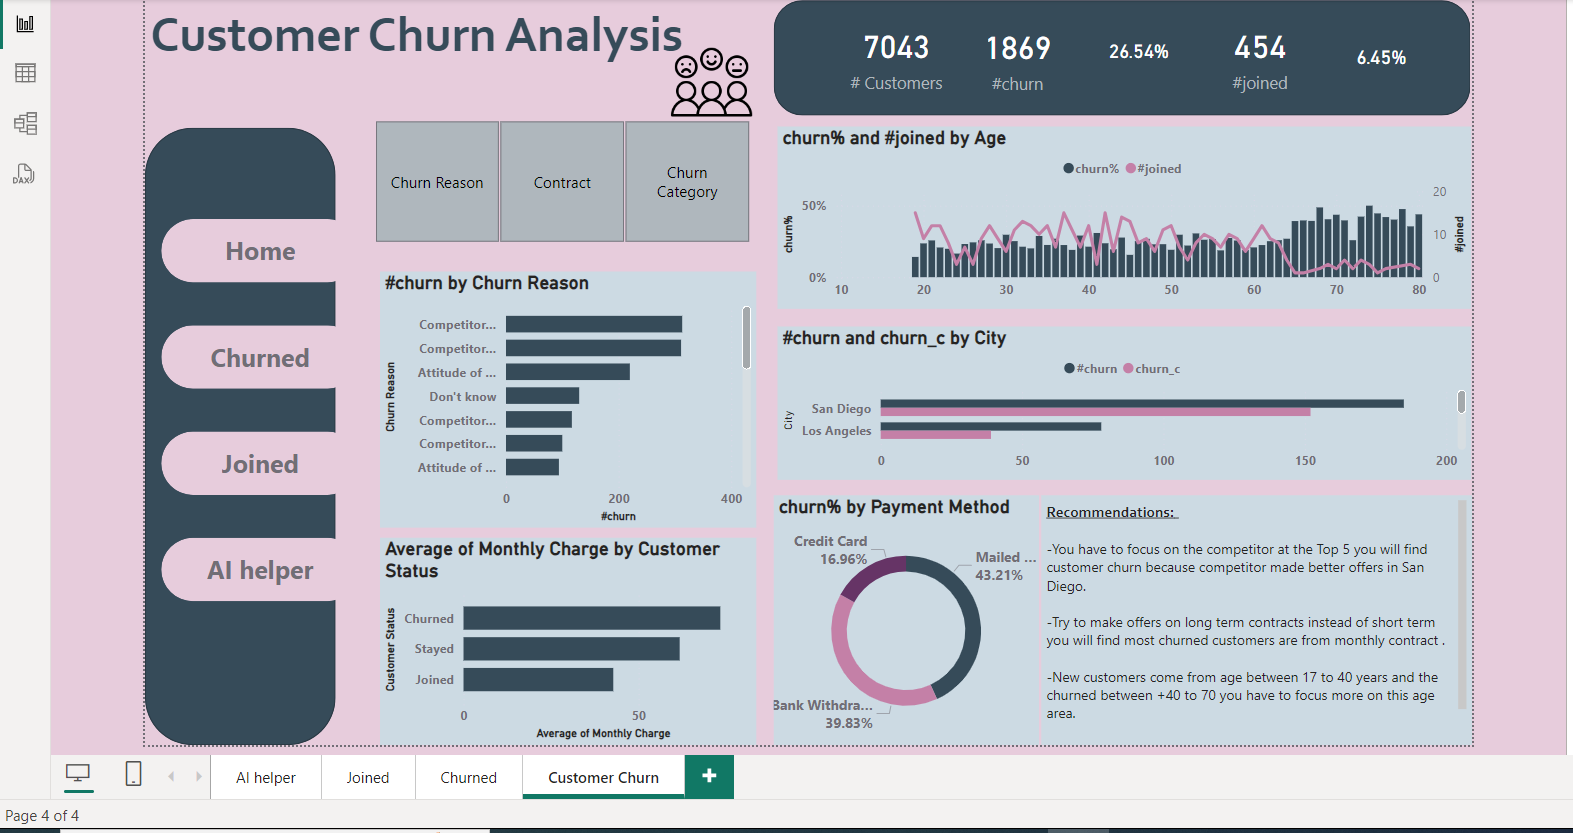

The page's visual inventory and layout, read from the dashboard file:
{"tool":"powerbi","page":{"name":"Customer Churn","canvas":[1280,720],"ordinal":0},"visuals":[{"type":"card","fields":{"Values":[" measures.# Customer"]},"box":[661.4,0,128.3,111.2],"z":0,"group":"g1"},{"type":"textbox","box":[864.5,478.9,415.8,241.5],"z":0},{"type":"card","fields":{"Values":[" measures.#churn"]},"box":[778.3,1.4,128.3,109.8],"z":1000,"group":"g1"},{"type":"clusteredBarChart","fields":{"Category":["telecom_customer_churn.City"],"Y":[" measures.#churn"," measures.churn_c"]},"box":[610.6,315.6,669.6,148.2],"z":1000},{"type":"card","fields":{"Values":[" measures.#joined"]},"box":[1012,0,128.3,111.2],"z":2000,"group":"g1"},{"type":"clusteredBarChart","fields":{"Category":["telecom_customer_churn.Customer Status"],"Y":["Avg(telecom_customer_churn.Monthly Charge)"]},"box":[226.8,520,363.1,200.3],"z":2000},{"type":"card","fields":{"Values":[" measures.churn%"]},"box":[895.2,27.1,128.3,48.5],"z":3000,"group":"g1"},{"type":"lineClusteredColumnComboChart","fields":{"Category":["telecom_customer_churn.Age"],"Y":[" measures.churn%"],"Y2":[" measures.#joined"]},"box":[610.6,123.5,669.6,175.6],"z":3000},{"type":"shape","box":[606.5,1.4,672.4,111.1],"z":4000},{"type":"card","fields":{"Values":[" measures.joined%"]},"box":[1128.9,32.8,128.3,48.5],"z":4000,"group":"g1"},{"type":"donutChart","fields":{"Y":[" measures.churn%"],"Category":["telecom_customer_churn.Payment Method"]},"box":[606.8,479,255.8,241.3],"z":5000},{"type":"textbox","box":[0,0,590.1,124],"z":6000},{"type":"shape","box":[0,124,183.9,595.8],"z":7000},{"type":"group","id":"g1","title":"Group 1","box":[661.4,0,595.8,111.2],"z":8000},{"type":"actionButton","box":[15.7,212.4,191,61.3],"z":9000},{"type":"actionButton","box":[15.7,315,191,61.3],"z":10000},{"type":"actionButton","box":[15.7,417.6,191,61.3],"z":11000},{"type":"actionButton","box":[15.7,520.3,191,61.3],"z":12000},{"type":"slicer","title":"sas","fields":{"Values":[" Churn Parameter. Churn Parameter"]},"box":[196.6,111,410.2,130.3],"z":13000},{"type":"clusteredBarChart","fields":{"Category":["telecom_customer_churn.Churn Reason","telecom_customer_churn.Contract","telecom_customer_churn.Churn Category"],"Y":[" measures.#churn"]},"box":[226.8,263,363.1,247.3],"z":14000},{"type":"image","box":[454.8,36.2,184.6,88.1],"z":15000}]}

Visuals, with their boxes on the page's 1280x720 design canvas (x1, y1, x2, y2). These are canvas units, not pixel positions in the 1573x833 screenshot, which may show the page scaled, cropped or inside an application window:
card -  measures.# Customer: locate(661, 0, 790, 111)
textbox: locate(864, 479, 1280, 720)
card -  measures.#churn: locate(778, 1, 907, 111)
clusteredBarChart - telecom_customer_churn.City x  measures.#churn: locate(611, 316, 1280, 464)
card -  measures.#joined: locate(1012, 0, 1140, 111)
clusteredBarChart - telecom_customer_churn.Customer Status x Avg(telecom_customer_churn.Monthly Charge): locate(227, 520, 590, 720)
card -  measures.churn%: locate(895, 27, 1024, 76)
lineClusteredColumnComboChart - telecom_customer_churn.Age x  measures.churn%: locate(611, 124, 1280, 299)
shape: locate(606, 1, 1279, 112)
card -  measures.joined%: locate(1129, 33, 1257, 81)
donutChart -  measures.churn% x telecom_customer_churn.Payment Method: locate(607, 479, 863, 720)
textbox: locate(0, 0, 590, 124)
shape: locate(0, 124, 184, 720)
"Group 1" group: locate(661, 0, 1257, 111)
actionButton: locate(16, 212, 207, 274)
actionButton: locate(16, 315, 207, 376)
actionButton: locate(16, 418, 207, 479)
actionButton: locate(16, 520, 207, 582)
"sas" slicer: locate(197, 111, 607, 241)
clusteredBarChart - telecom_customer_churn.Churn Reason x telecom_customer_churn.Contract: locate(227, 263, 590, 510)
image: locate(455, 36, 639, 124)
